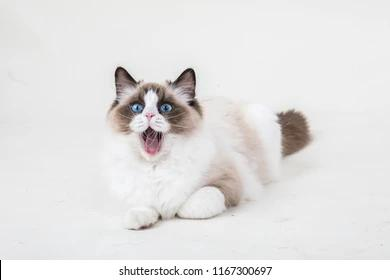ragdoll: (100, 54, 209, 173)
